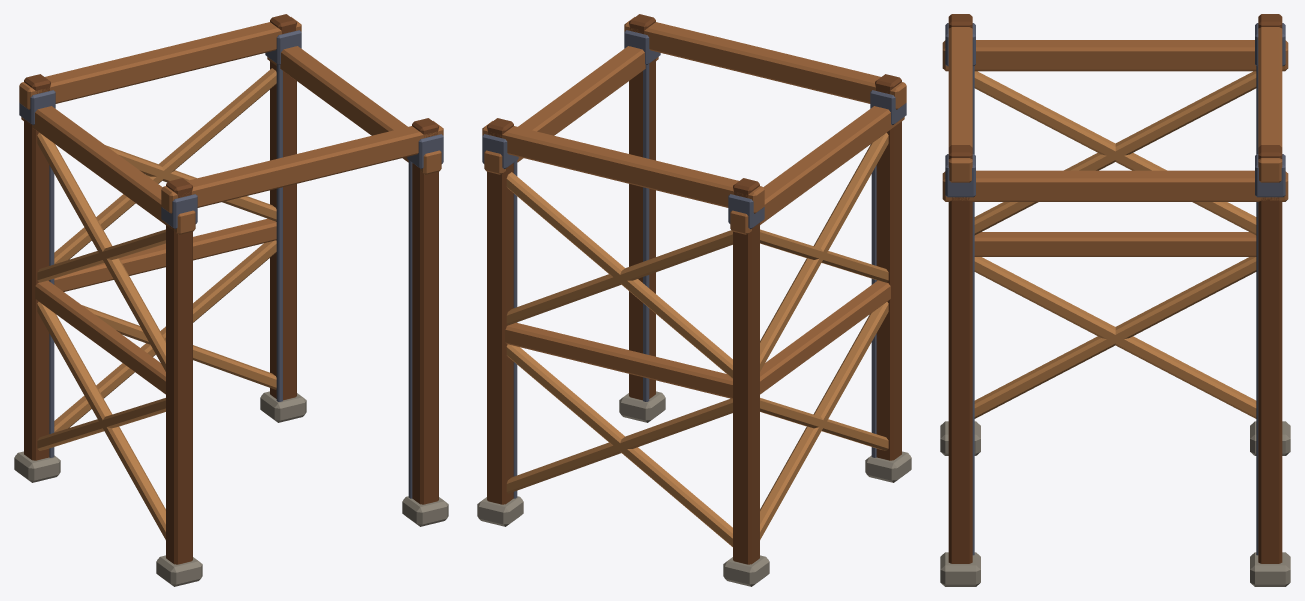
Rendered from montacarichi_castello.glb.
3 renders of one model, left to right at view 1: azimuth 30°, elevation 25°; view 2: azimuth 150°, elevation 25°; view 3: azimuth 270°, elevation 25°, orthographic. The views are drawn at different scales.
Visible parts, largest first — view 1: montacarichi_castello2; view 2: montacarichi_castello2; view 3: montacarichi_castello2.
Boxes of the visible parts, x1,y1,x2,y2 form: montacarichi_castello2: [14, 14, 448, 586]; montacarichi_castello2: [477, 14, 911, 586]; montacarichi_castello2: [940, 14, 1290, 586].
Bounding box in the file's own units: 2.94 × 4 × 2.94.
